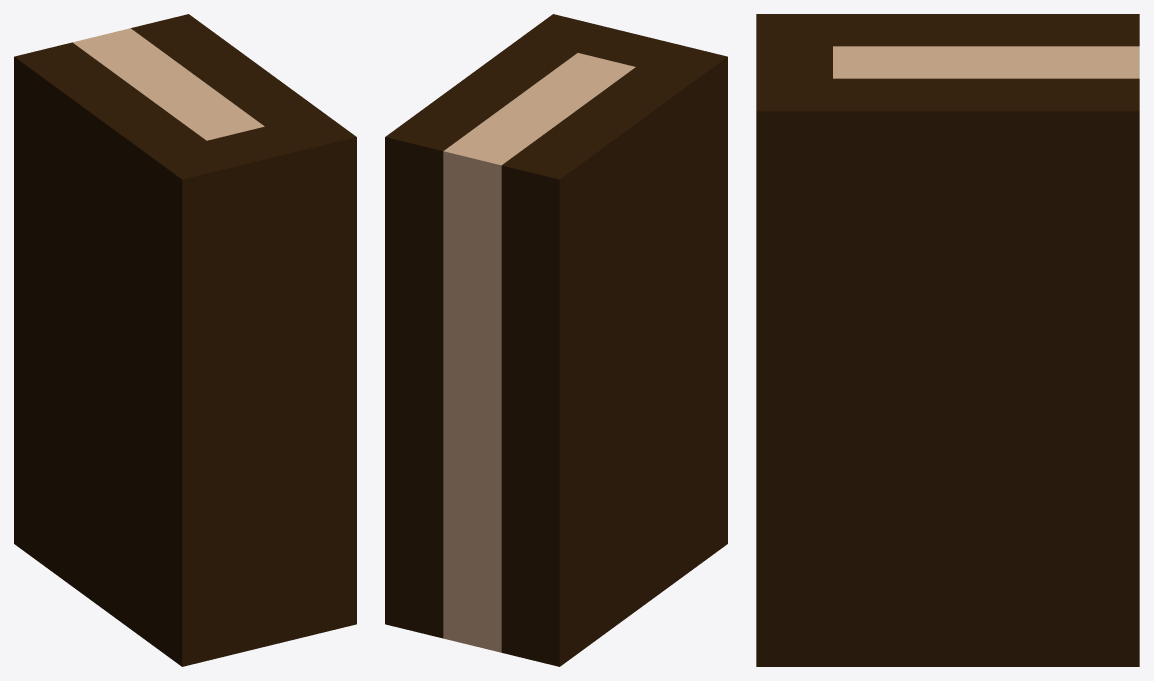
File: Livre 4.obj
3 views of the same model, side by side, from view 1: azimuth 30°, elevation 25°; view 2: azimuth 150°, elevation 25°; view 3: azimuth 270°, elevation 25° (orthographic). The views are drawn at different scales.
Parts seen in each view (by area): view 1: Livre 4; view 2: Livre 4; view 3: Livre 4.
Part boxes in pixels (bbox=[...]): Livre 4: bbox=[14, 14, 356, 666]; Livre 4: bbox=[385, 14, 727, 666]; Livre 4: bbox=[756, 14, 1139, 666].
Bounding box in the file's own units: 3 × 8 × 5.
1 material, 1 textured.
